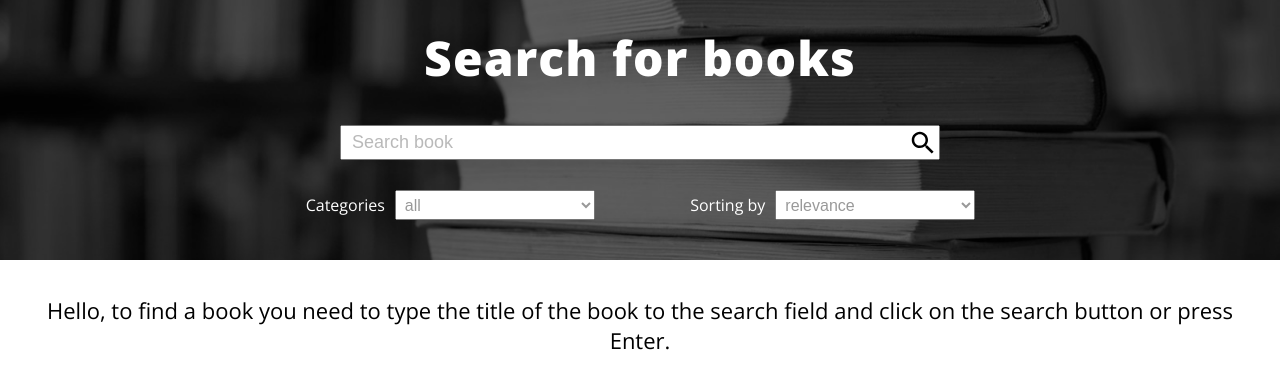
App › reject fetch books
This screenshot has width=1280, height=367.
Type "test" into the field with placeholder "Search book" at (640, 142), box top-left (340, 125), bottom-right (940, 160)
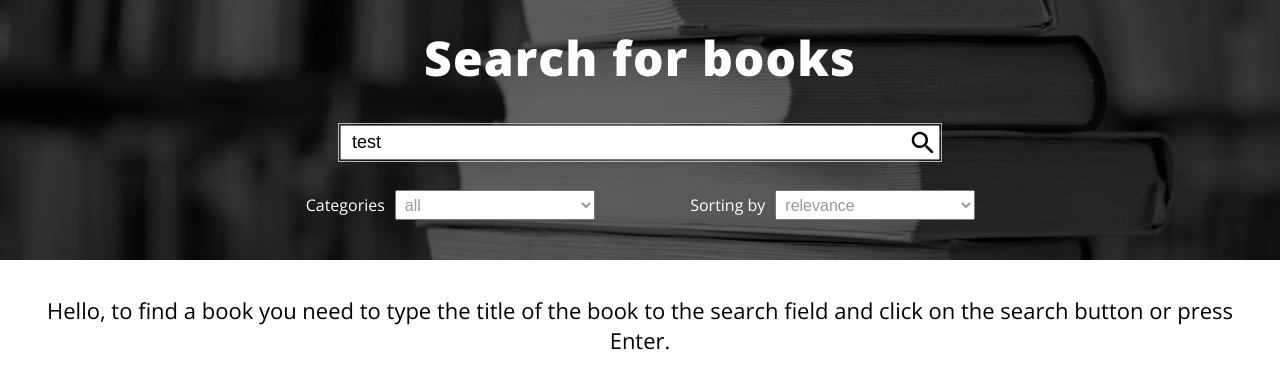
Click the button at (922, 142), box top-left (905, 125), bottom-right (940, 160)
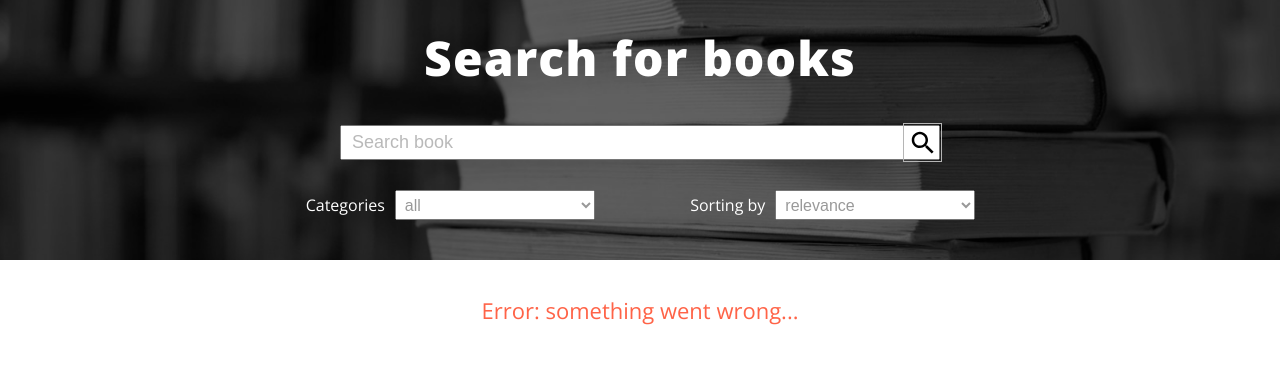
Expected: the text "Error: something went wrong..." is shown, top-left (482, 295), bottom-right (798, 325)
